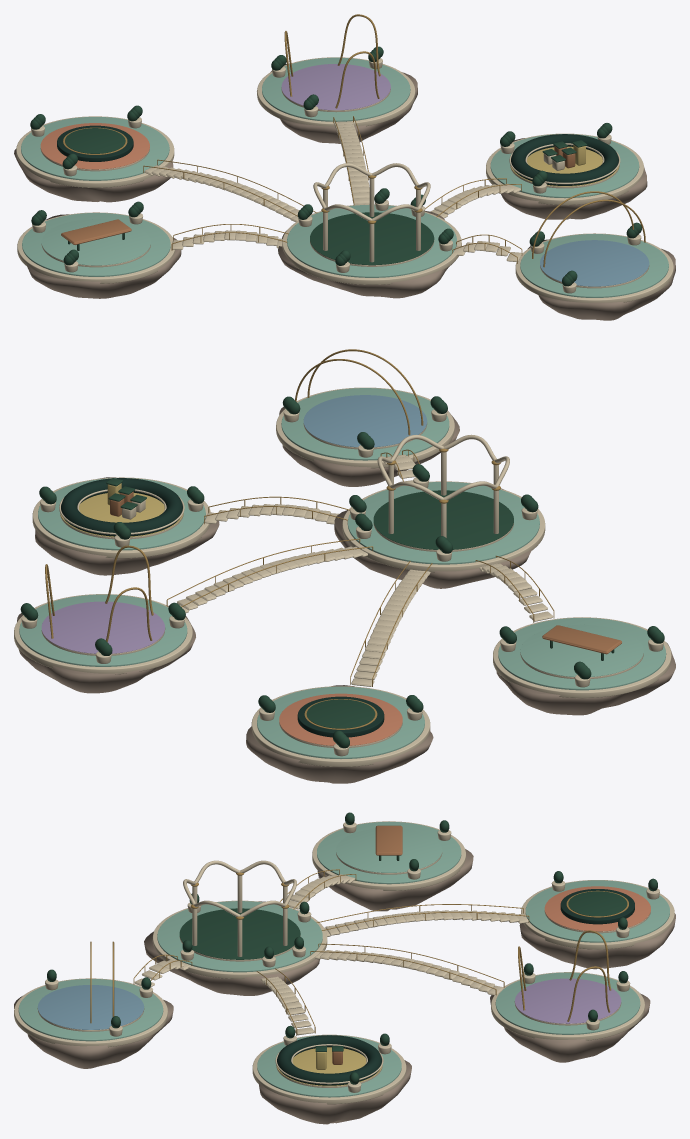
The model's file is archipelago.glb.
3 views of the same model, one above another, from view 1: azimuth 30°, elevation 25°; view 2: azimuth 150°, elevation 25°; view 3: azimuth 270°, elevation 25° (orthographic). The views are drawn at different scales.
Parts seen in each view (by area): view 1: hub-island, relativity-island, neural-island, rocket-island, traffic-island, attention-island, bridge-rocket, bridge-attention, bridge-neural, bridge-traffic, bridge-relativity; view 2: hub-island, rocket-island, attention-island, neural-island, traffic-island, relativity-island, bridge-rocket, bridge-attention, bridge-traffic, bridge-neural; view 3: hub-island, attention-island, traffic-island, rocket-island, relativity-island, neural-island, bridge-rocket, bridge-attention, bridge-traffic, bridge-neural, bridge-relativity.
Part boxes in pixels (box(x1,y1,x2,y2)): hub-island: box(278, 163, 461, 298); relativity-island: box(515, 191, 675, 320); neural-island: box(17, 201, 181, 298); rocket-island: box(14, 105, 174, 202); traffic-island: box(486, 123, 647, 219); attention-island: box(257, 14, 417, 143); bridge-rocket: box(143, 159, 317, 221); bridge-attention: box(333, 116, 369, 205); bridge-neural: box(171, 224, 288, 250); bridge-traffic: box(425, 178, 521, 218); bridge-relativity: box(452, 234, 522, 263); hub-island: box(334, 434, 545, 588); rocket-island: box(246, 685, 433, 783); attention-island: box(14, 545, 195, 693); neural-island: box(493, 617, 675, 715); traffic-island: box(32, 477, 219, 575); relativity-island: box(276, 349, 459, 486); bridge-rocket: box(350, 561, 432, 686); bridge-attention: box(166, 538, 373, 612); bridge-traffic: box(204, 496, 349, 524); bridge-neural: box(475, 555, 554, 622); hub-island: box(144, 860, 327, 995); attention-island: box(490, 930, 650, 1062); traffic-island: box(252, 1025, 411, 1124); rocket-island: box(519, 871, 675, 969); relativity-island: box(14, 941, 173, 1068); neural-island: box(312, 812, 473, 911); bridge-rocket: box(316, 904, 529, 936); bridge-attention: box(310, 943, 504, 995); bridge-traffic: box(256, 968, 315, 1035); bridge-neural: box(280, 869, 356, 909); bridge-relativity: box(133, 954, 192, 986).
Size of the model in its own units: 43.7 by 9.51 by 44.41.
